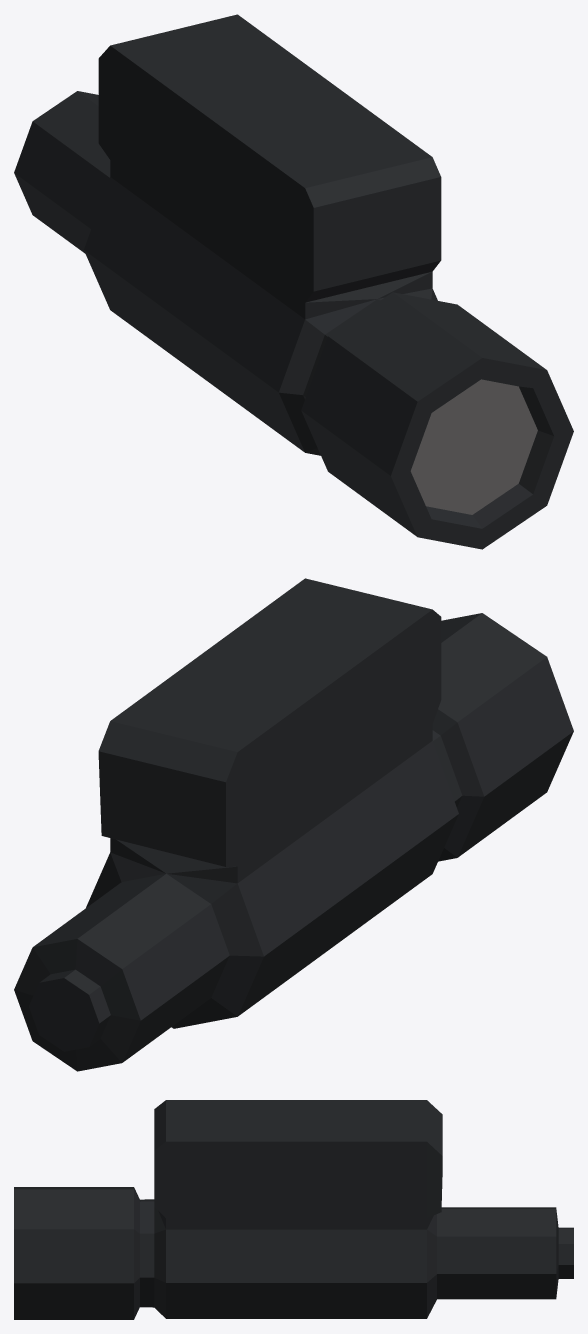
File: SM_Wep_Attach_Light_02.fbx
3 renders of one model, top to bottom at view 1: azimuth 30°, elevation 25°; view 2: azimuth 150°, elevation 25°; view 3: azimuth 270°, elevation 25°, orthographic. The views are drawn at different scales.
Parts seen in each view (by area): view 1: SM_Wep_Attach_Light_02; view 2: SM_Wep_Attach_Light_02; view 3: SM_Wep_Attach_Light_02.
Part boxes in pixels (box(x1,y1,x2,y2)): SM_Wep_Attach_Light_02: box(14, 14, 573, 549); SM_Wep_Attach_Light_02: box(14, 578, 573, 1071); SM_Wep_Attach_Light_02: box(14, 1100, 573, 1319).
Size of the model in its own units: 3.18 by 4.88 by 12.58.
1 material, 1 textured.
